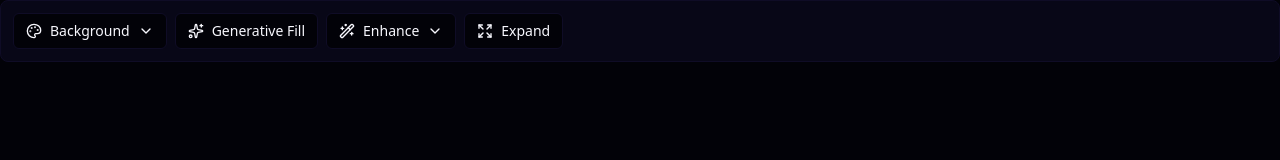
Test: EditingToolbar › opens enhance dropdown menu
The image size is (1280, 160).
Click the button with aria-label "enhancement tools": x=391, y=31 [326, 13, 456, 49]
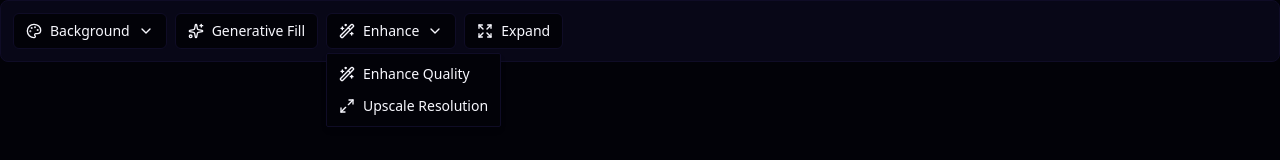
Check: the menu item "Enhance Quality" is shown, box [339, 64, 470, 83]
Check: the menu item "Upscale Resolution" is shown, box [339, 96, 488, 115]
